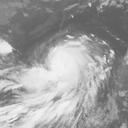cyclone: (22, 40, 99, 105)
